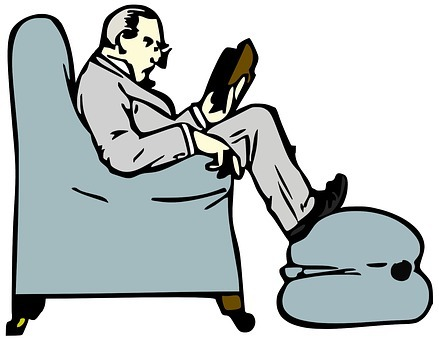chair: (2, 13, 256, 338)
person: (70, 2, 349, 245)
